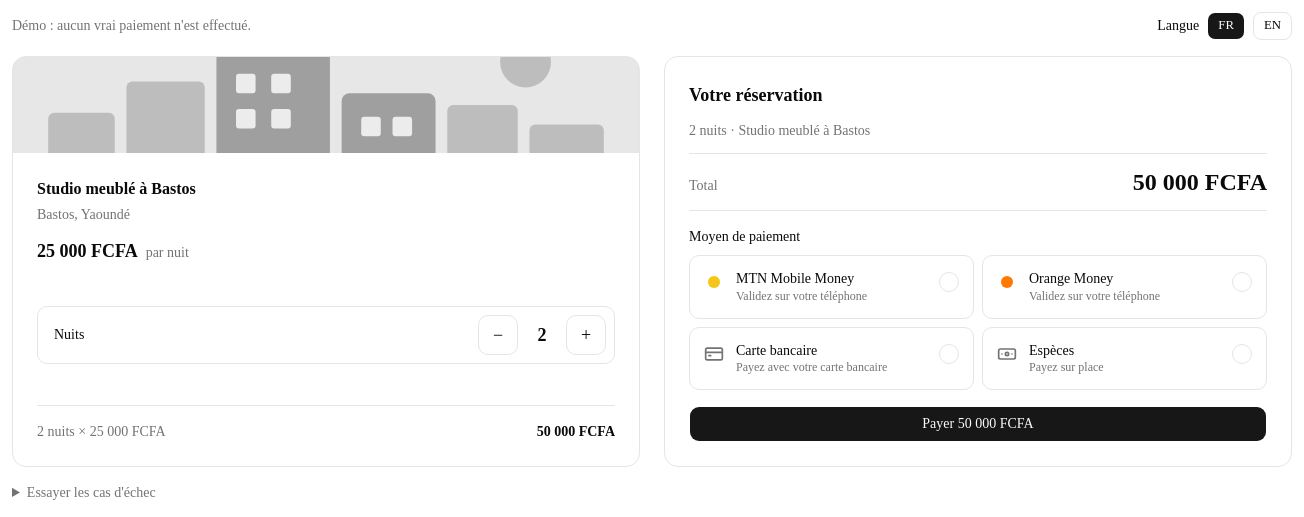
<BookingDemo /> the order › updates the total as the nights change
The width and height of the screenshot is (1304, 517).
Step 1. Click the button "+" → (586, 335), box x1=566 y1=315 x2=606 y2=355
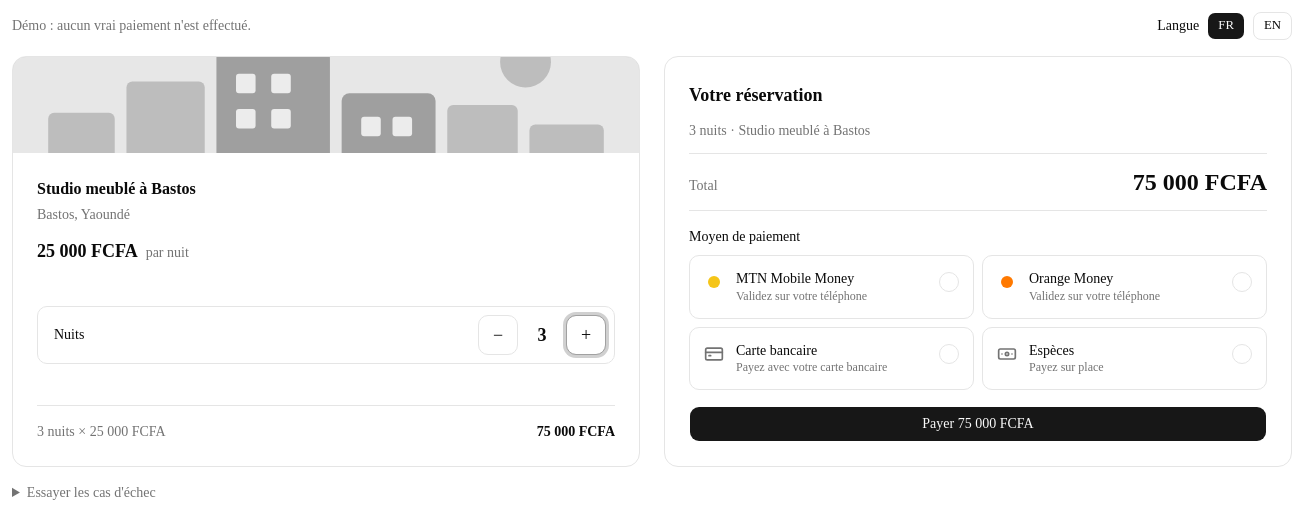
Now the button "Payer 75 000 FCFA" is shown, box x1=689 y1=406 x2=1267 y2=442
Step 2. Click the button "−" → (498, 335), box x1=478 y1=315 x2=518 y2=355
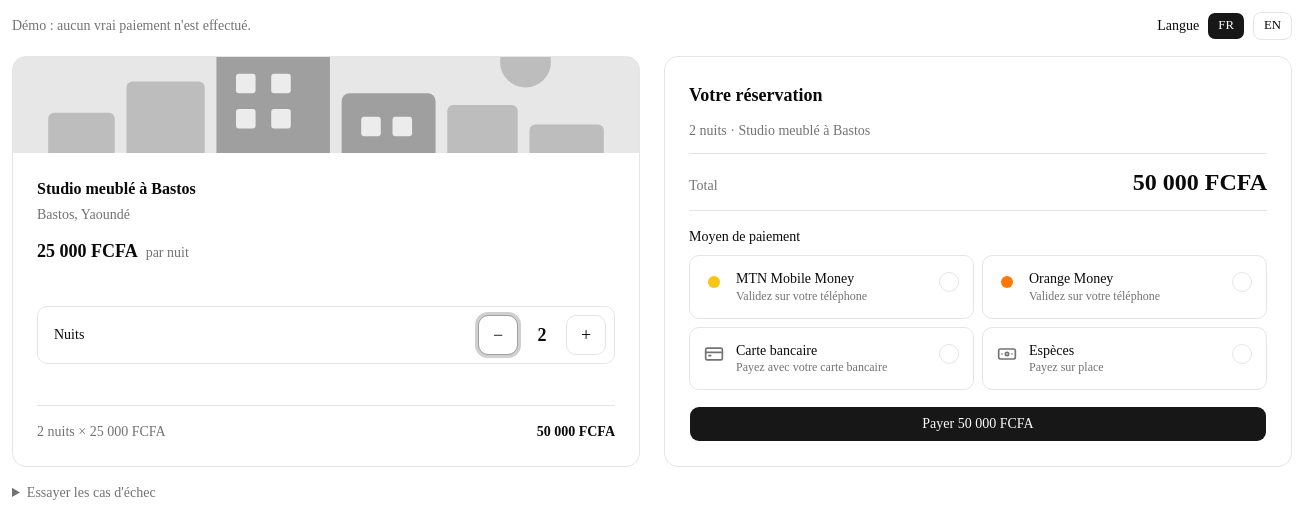
Step 3. Click the button "−" → (498, 335), box x1=478 y1=315 x2=518 y2=355
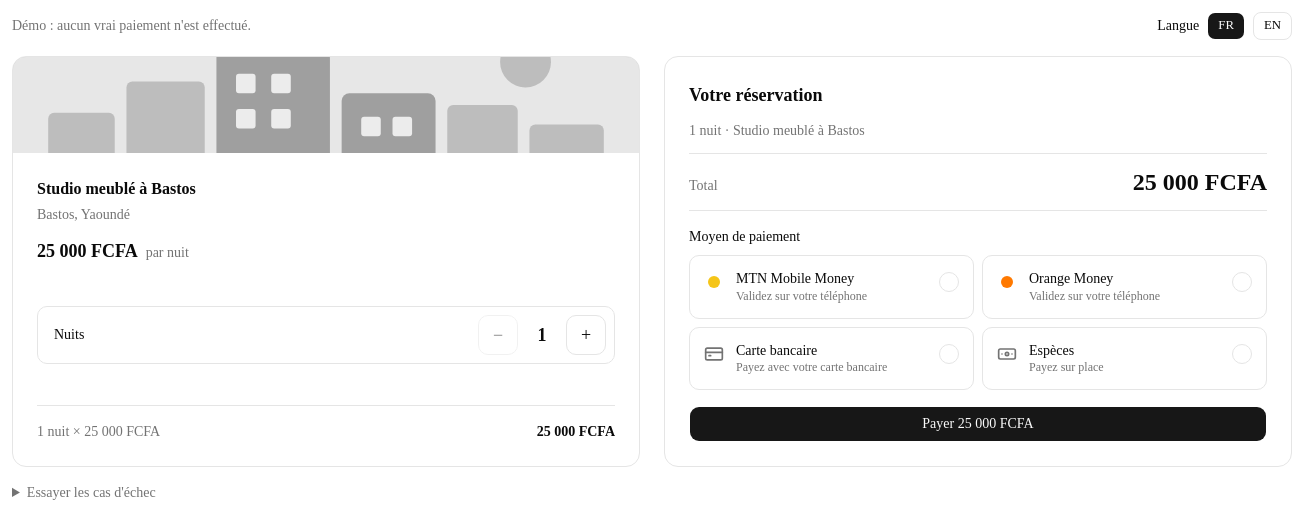
Now the button "Payer 25 000 FCFA" is shown, box x1=689 y1=406 x2=1267 y2=442
